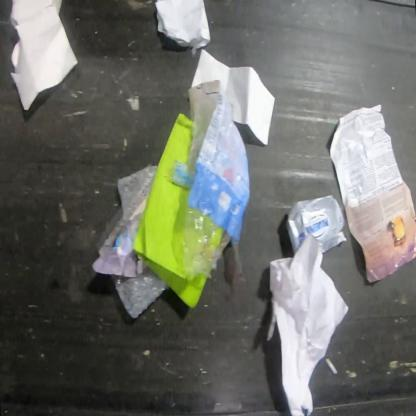cardboard: (285, 194, 347, 255)
soft_plastic: (164, 79, 252, 292), (92, 164, 170, 320)
